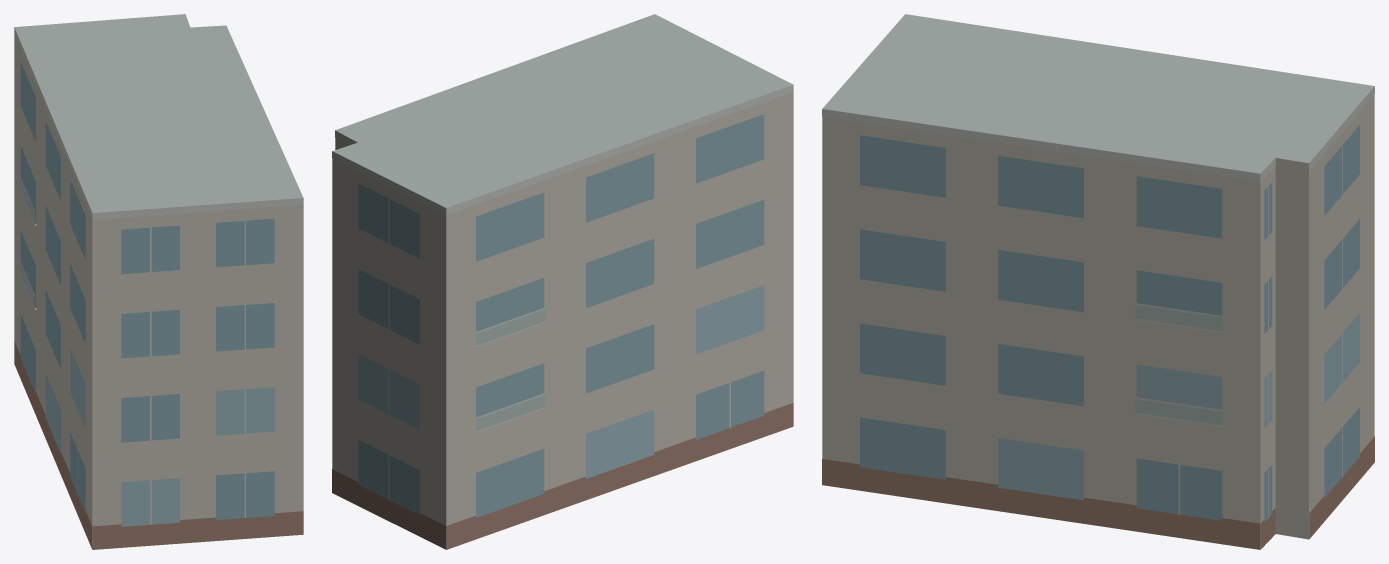
File: survey-upis-32713093.glb
3 views of the same model, side by side, from view 1: azimuth 30°, elevation 25°; view 2: azimuth 150°, elevation 25°; view 3: azimuth 270°, elevation 25° (orthographic). The views are drawn at different scales.
Parts seen in each view (by area): view 1: survey-upis-32713093.tmp; view 2: survey-upis-32713093.tmp; view 3: survey-upis-32713093.tmp.
Part boxes in pixels (x1=…): survey-upis-32713093.tmp: x1=14, y1=14, x2=303, y2=549; survey-upis-32713093.tmp: x1=332, y1=14, x2=793, y2=549; survey-upis-32713093.tmp: x1=822, y1=14, x2=1374, y2=549.
Bounding box in the file's own units: 10.66 × 11.7 × 15.59.
